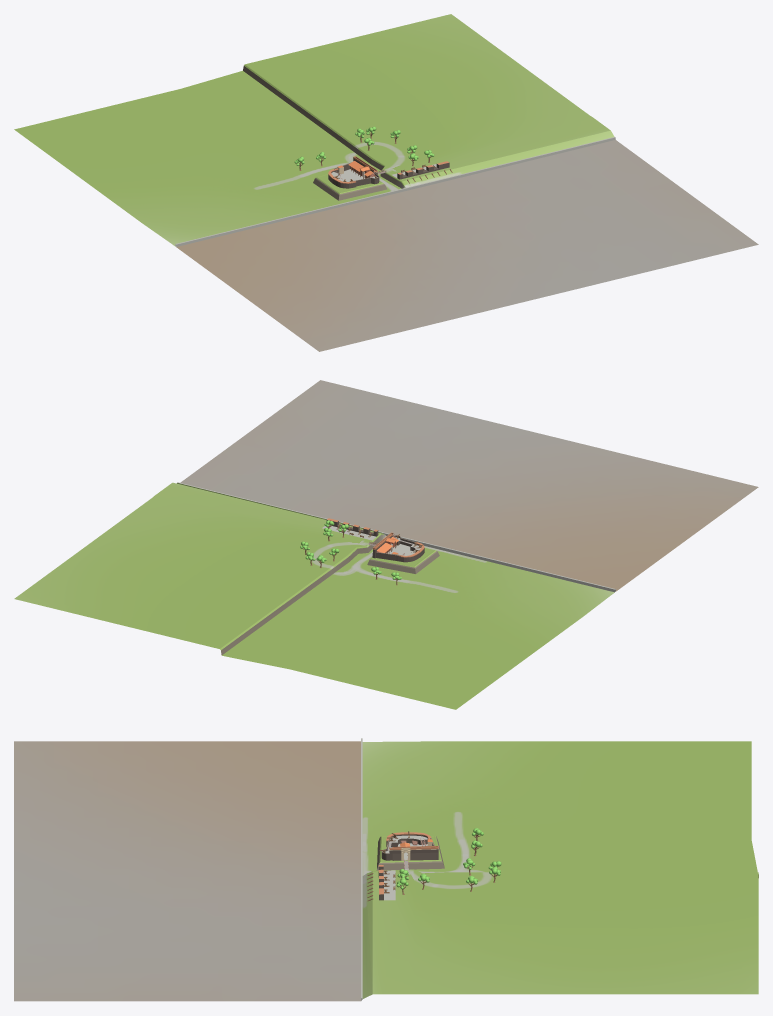
File: ForteDoPresepio.dae
3 renders of one model, top to bottom at view 1: azimuth 30°, elevation 25°; view 2: azimuth 150°, elevation 25°; view 3: azimuth 270°, elevation 25°, orthographic. The views are drawn at different scales.
Visible parts, largest first — view 1: ForteDoPresepio, Cylinder; view 2: ForteDoPresepio, Cylinder; view 3: ForteDoPresepio, Cylinder.
Part boxes in pixels (bbox=[...]): ForteDoPresepio: bbox=[14, 14, 758, 351]; Cylinder: bbox=[294, 126, 434, 170]; ForteDoPresepio: bbox=[14, 380, 758, 709]; Cylinder: bbox=[300, 520, 401, 585]; ForteDoPresepio: bbox=[14, 738, 758, 1001]; Cylinder: bbox=[396, 828, 501, 894].
Bounding box in the file's own units: 80.22 × 97.03 × 3.22.
